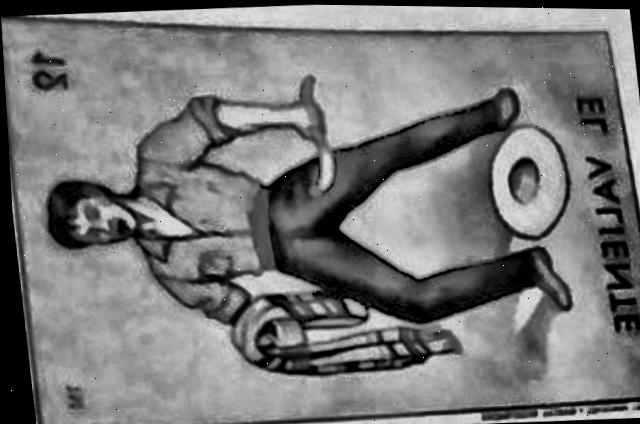El Valiente: (1, 11, 640, 424)
